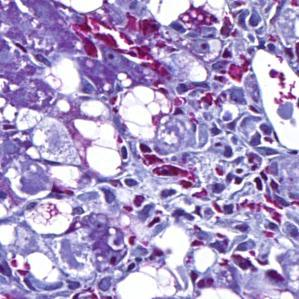ballooning: (117, 83, 172, 142), (23, 196, 76, 238), (114, 263, 177, 296)
